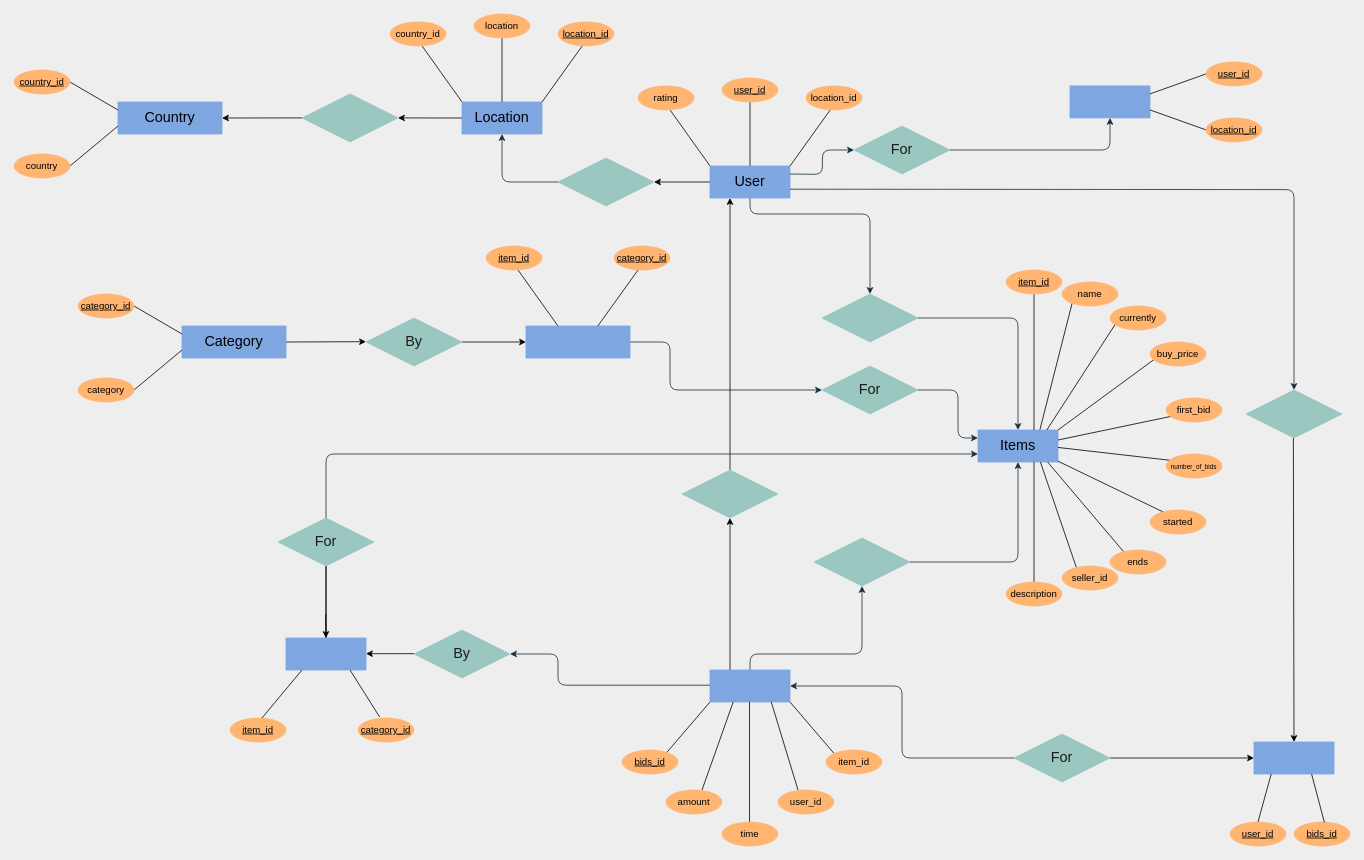
Some shapes in this 1364 by 860 pixel diagram are drawn without their labels. Each missing label, with the centre of its shape:
"Belongs To" goes at [605,181].
"Bid" goes at [861,561].
"Bids" goes at [749,685].
"Category_Item" goes at [577,341].
"In" goes at [349,117].
"Item_Bids" goes at [325,653].
"Places" goes at [1293,413].
"Put by" goes at [729,493].
"User_Bid" goes at [1293,757].
"User_Item" goes at [1109,101].
"Where" goes at [869,317].
